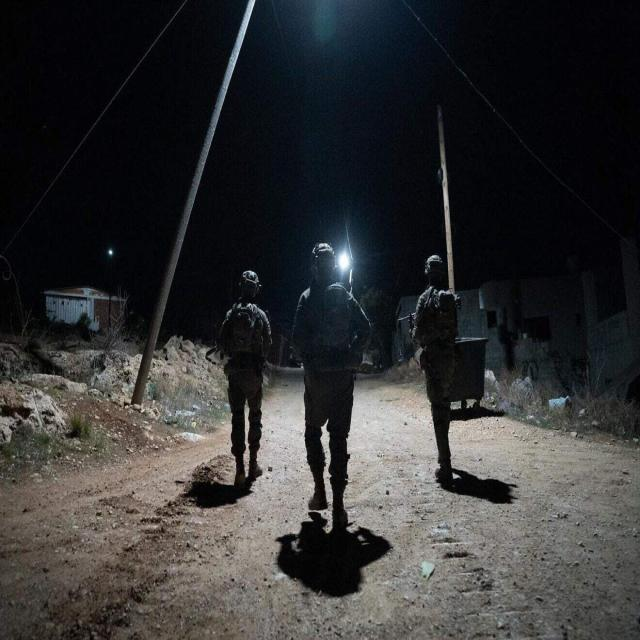Forest: (3, 6, 640, 640)
Militant: (284, 235, 375, 532), (405, 240, 474, 502), (209, 253, 282, 484)
